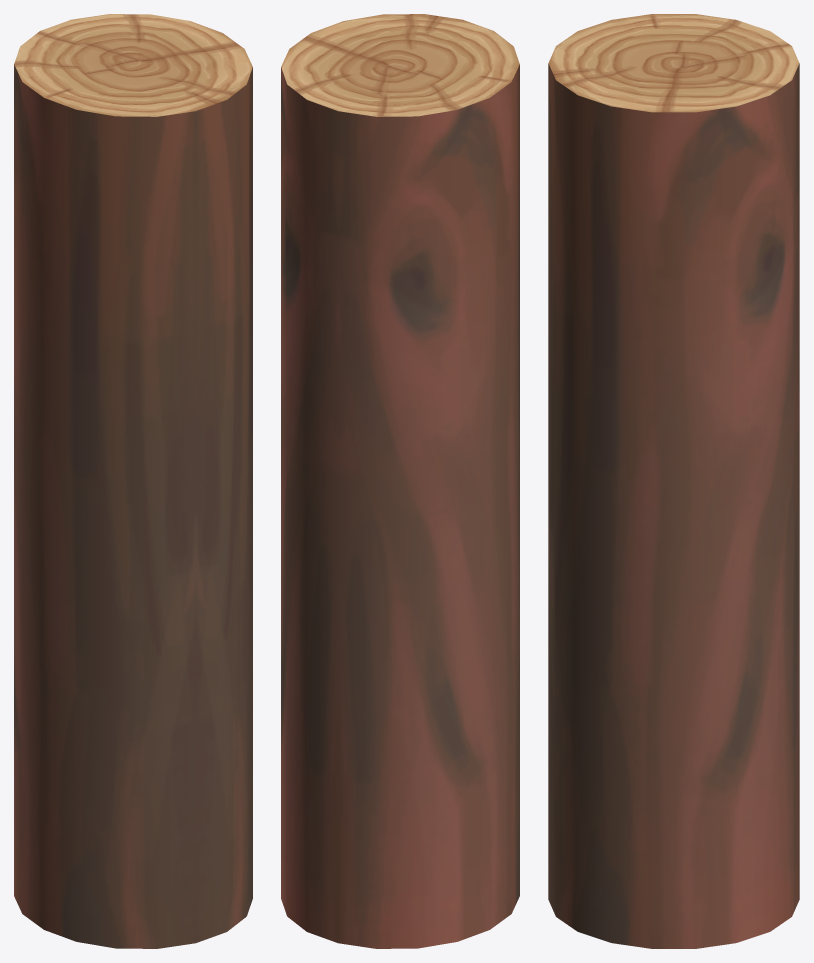
File: path rail support.FBX
3 views of the same model, side by side, from view 1: azimuth 30°, elevation 25°; view 2: azimuth 150°, elevation 25°; view 3: azimuth 270°, elevation 25° (orthographic).
Parts seen in each view (by area): view 1: path rail support; view 2: path rail support; view 3: path rail support.
Boxes of the visible parts, x1,y1,x2,y2 form: path rail support: (14,14,252,948); path rail support: (281,14,519,948); path rail support: (548,14,799,948).
Bounding box in the file's own units: 28.51 × 113 × 30.75.
